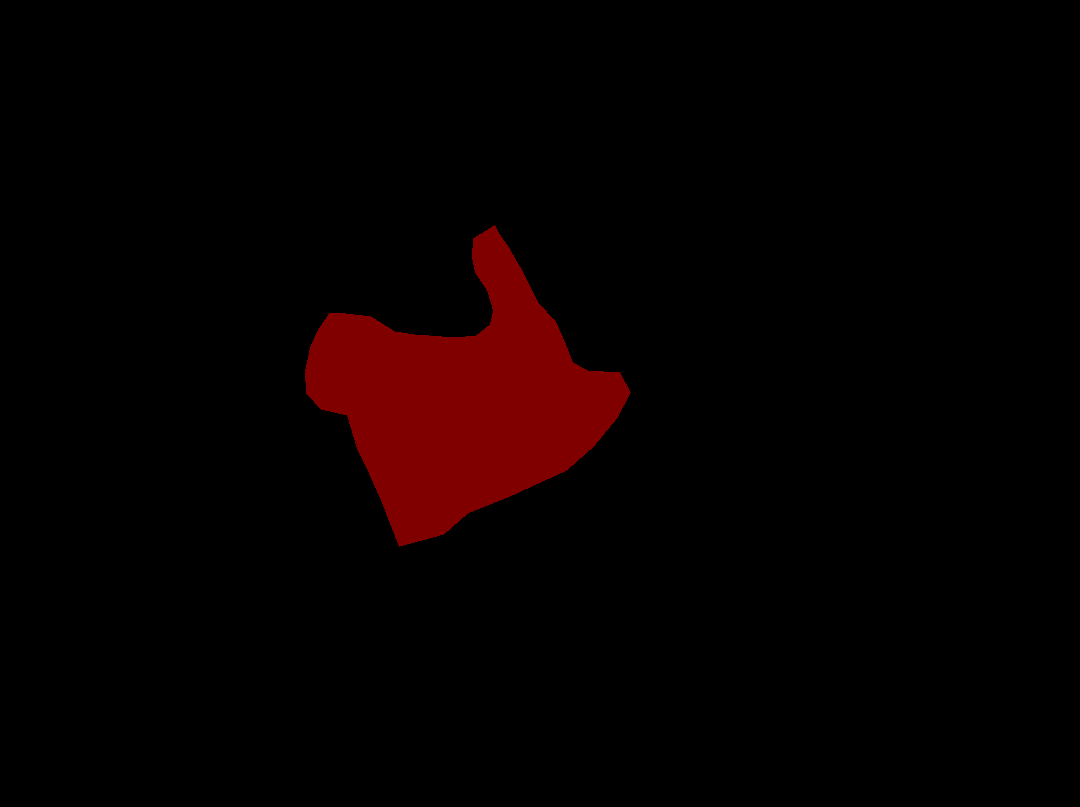fire: (305, 225, 630, 546)
